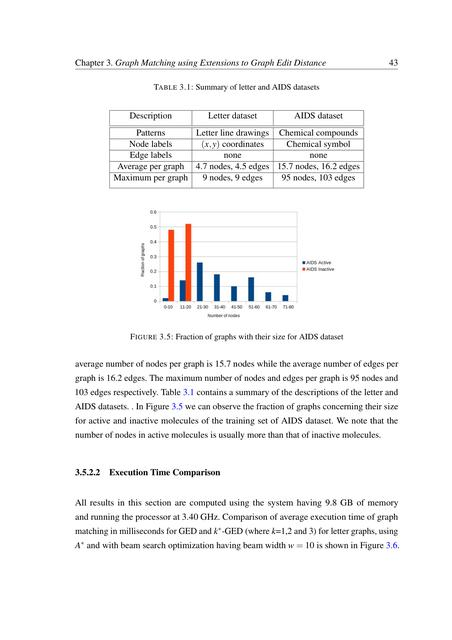box: (129, 208, 344, 343), (108, 108, 364, 189)
